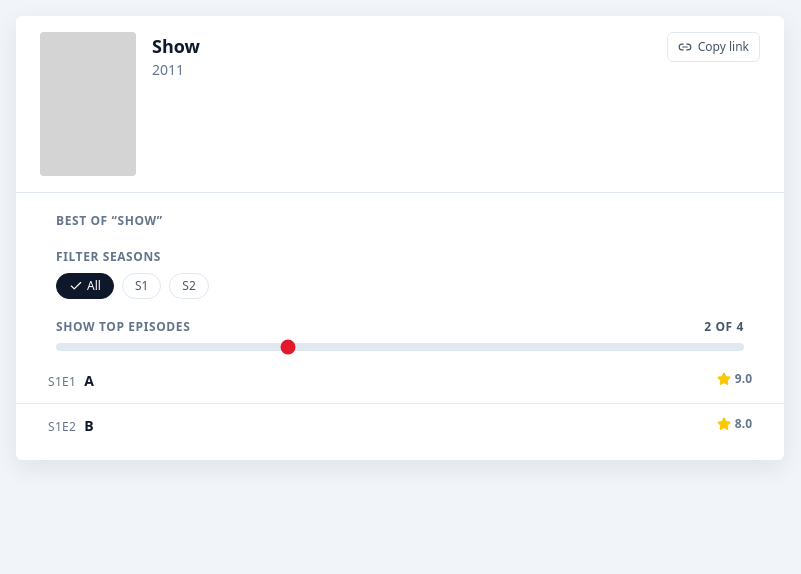
Test case: <EpisodesList /> › dragging the slider above the fetched count refetches with ?limit=N
Set the slider to "4" at point(736, 347), box x1=56 y1=343 x2=744 y2=351
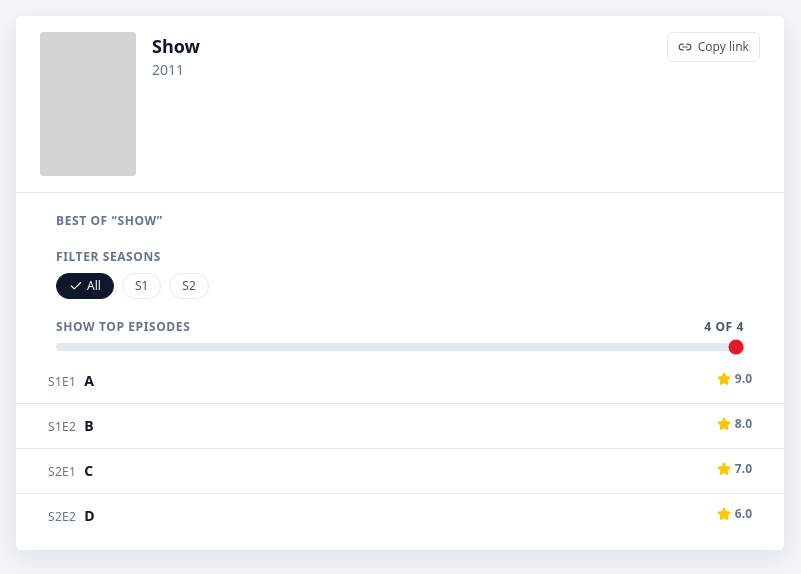
Expected: the text "C" is shown, x1=84 y1=461 x2=93 y2=480
Expected: the text "D" is shown, x1=84 y1=506 x2=95 y2=525
